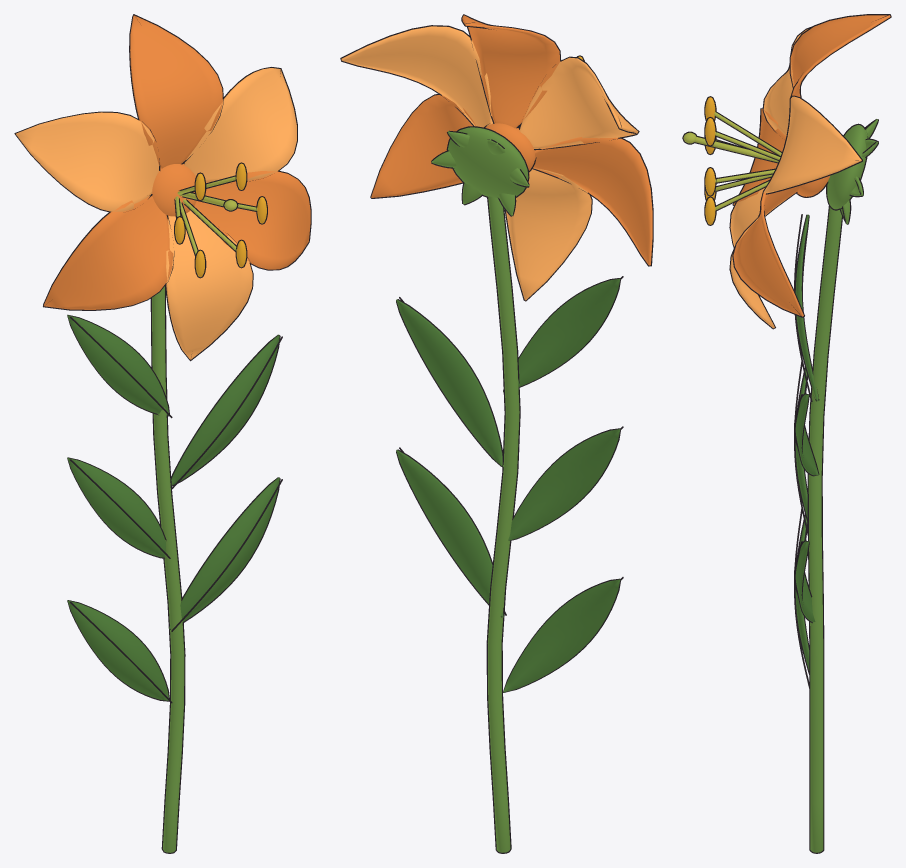
The model's file is lily_orange.glb.
The picture shows the model from 3 angles, left to right: view 1: azimuth 30°, elevation 25°; view 2: azimuth 150°, elevation 25°; view 3: azimuth 270°, elevation 25°; orthographic projection. The views are drawn at different scales.
Parts seen in each view (by area): view 1: lily_Geometry; view 2: lily_Geometry; view 3: lily_Geometry.
Boxes of the visible parts, left/top/right/bottom form: lily_Geometry: left=14, top=14, right=311, bottom=853; lily_Geometry: left=340, top=14, right=653, bottom=853; lily_Geometry: left=682, top=14, right=891, bottom=853.
Bounding box in the file's own units: 0.1882 × 0.5472 × 0.124.
